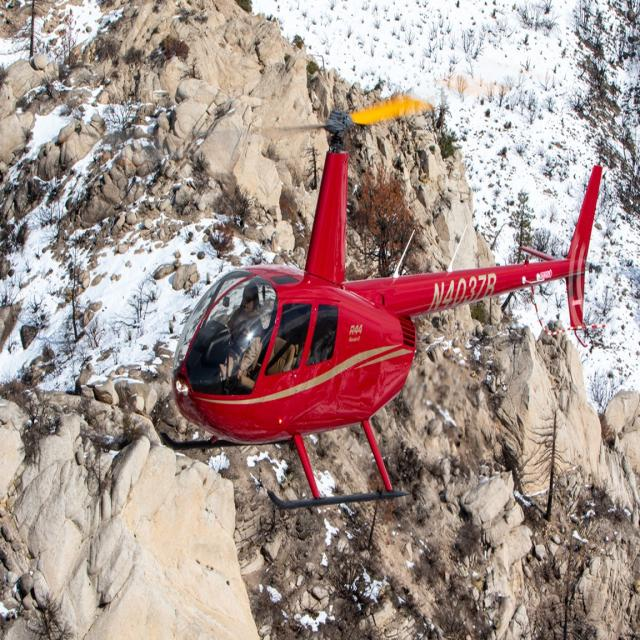CIV_HELO: (158, 117, 605, 514)
